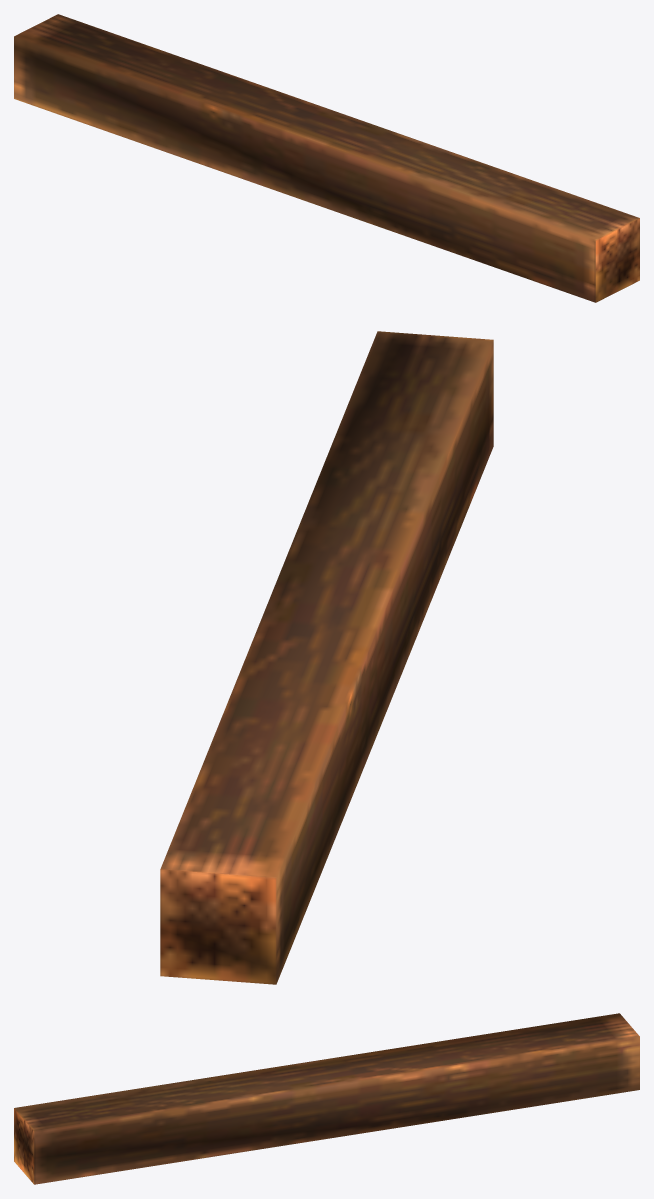
Rendered from SWORDLIGHT20_JAILBRACE43.fbx.
3 renders of one model, top to bottom at view 1: azimuth 30°, elevation 25°; view 2: azimuth 150°, elevation 25°; view 3: azimuth 270°, elevation 25°, orthographic. The views are drawn at different scales.
Visible parts, largest first — view 1: SWORDLIGHT20_JAILBRACE43; view 2: SWORDLIGHT20_JAILBRACE43; view 3: SWORDLIGHT20_JAILBRACE43.
Part boxes in pixels (<box>): SWORDLIGHT20_JAILBRACE43: <box>14,14,639,302</box>; SWORDLIGHT20_JAILBRACE43: <box>160,331,493,984</box>; SWORDLIGHT20_JAILBRACE43: <box>14,1013,639,1184</box>.
Size of the model in its own units: 18990 by 4000 by 42513.
Materials: 1 (1 with a texture image).
